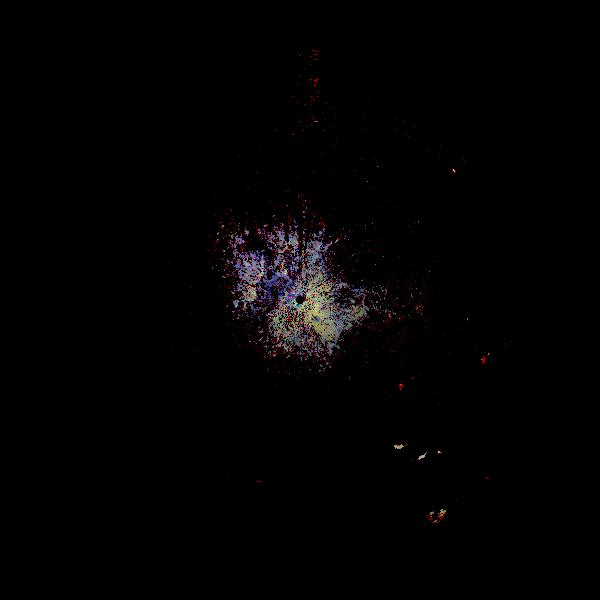roost: (367, 347, 508, 488)
